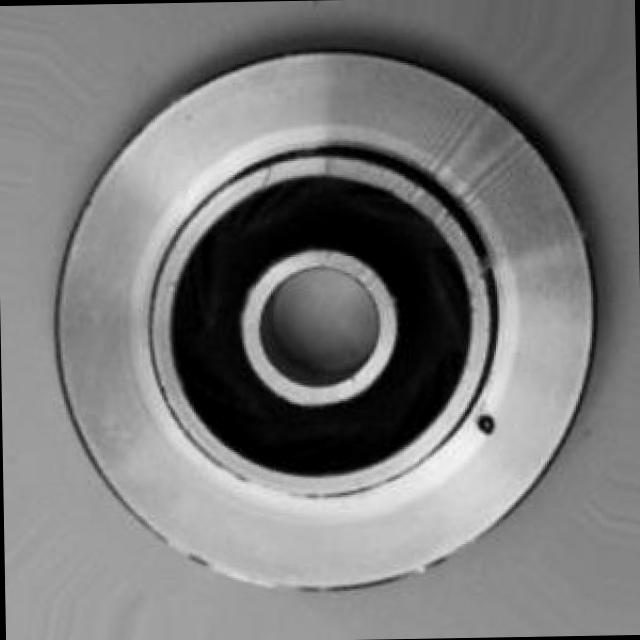Defect: (470, 404, 504, 450)
